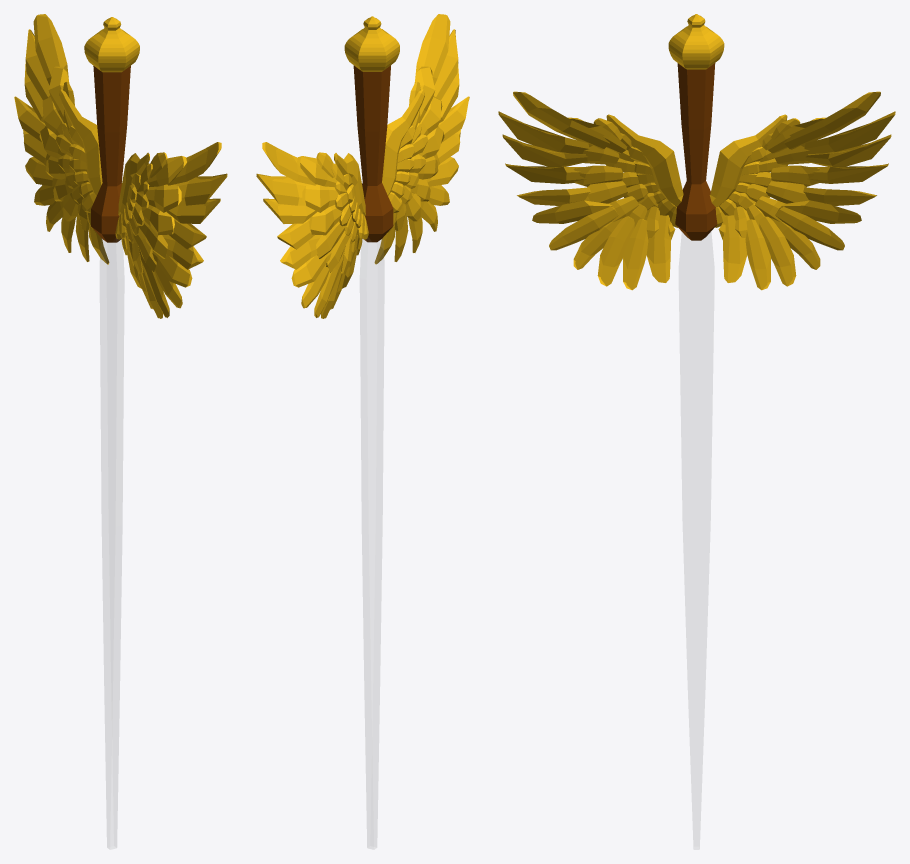
The model's file is EspadaGrandeVirtud.fbx.
3 renders of one model, left to right at view 1: azimuth 30°, elevation 25°; view 2: azimuth 150°, elevation 25°; view 3: azimuth 270°, elevation 25°, orthographic.
Parts seen in each view (by area): view 1: Cube; view 2: Cube; view 3: Cube.
Part boxes in pixels (x1,y1,x2,y2): Cube: (14, 14, 227, 849); Cube: (256, 14, 469, 849); Cube: (498, 14, 895, 849).
Size of the model in its own units: 14.57 by 267 by 115.
